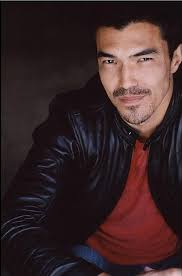asian_male: (78, 8, 173, 121)
